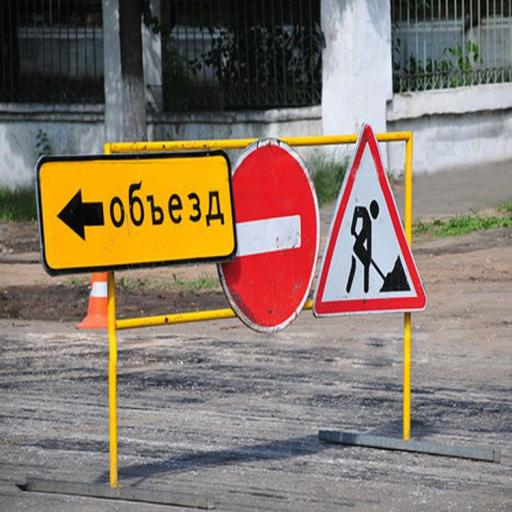chair: (100, 128, 416, 488)
